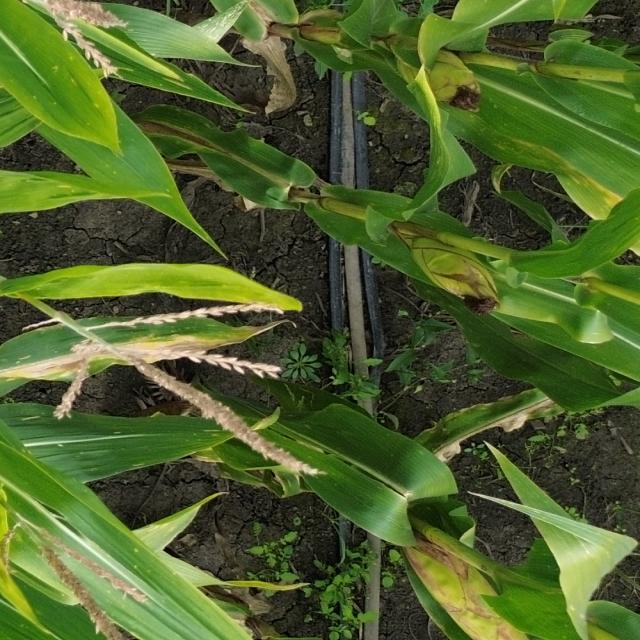gray-leaf-spot: (179, 0, 262, 68)
northern-leaf-blight: (32, 61, 179, 218), (140, 105, 312, 208), (404, 378, 565, 467)
southern-leaf-blight: (0, 297, 286, 383), (312, 408, 426, 506), (81, 416, 224, 490), (422, 96, 536, 180), (86, 525, 210, 602)
